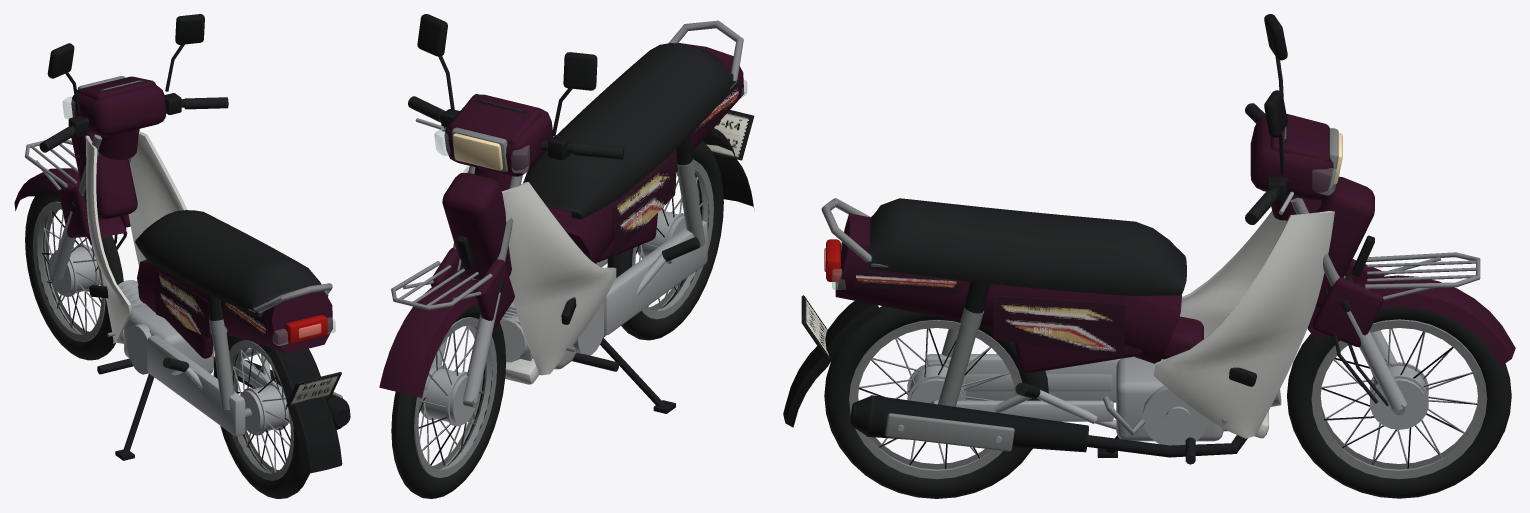
The model's file is CTCC_PROP_CommuterMotorbike.fbx.
The picture shows the model from 3 angles, left to right: view 1: azimuth 30°, elevation 25°; view 2: azimuth 150°, elevation 25°; view 3: azimuth 270°, elevation 25°; orthographic projection. The views are drawn at different scales.
Visible parts, largest first — view 1: CTCC_PROP_CommuterMotorbike_LOD0; view 2: CTCC_PROP_CommuterMotorbike_LOD0; view 3: CTCC_PROP_CommuterMotorbike_LOD0.
Boxes of the visible parts, <box> form: CTCC_PROP_CommuterMotorbike_LOD0: <box>14,14,350,498</box>; CTCC_PROP_CommuterMotorbike_LOD0: <box>379,14,754,498</box>; CTCC_PROP_CommuterMotorbike_LOD0: <box>783,14,1515,498</box>.
Size of what is drawn, in the model's own units: 0.7034 by 1.29 by 1.95.
